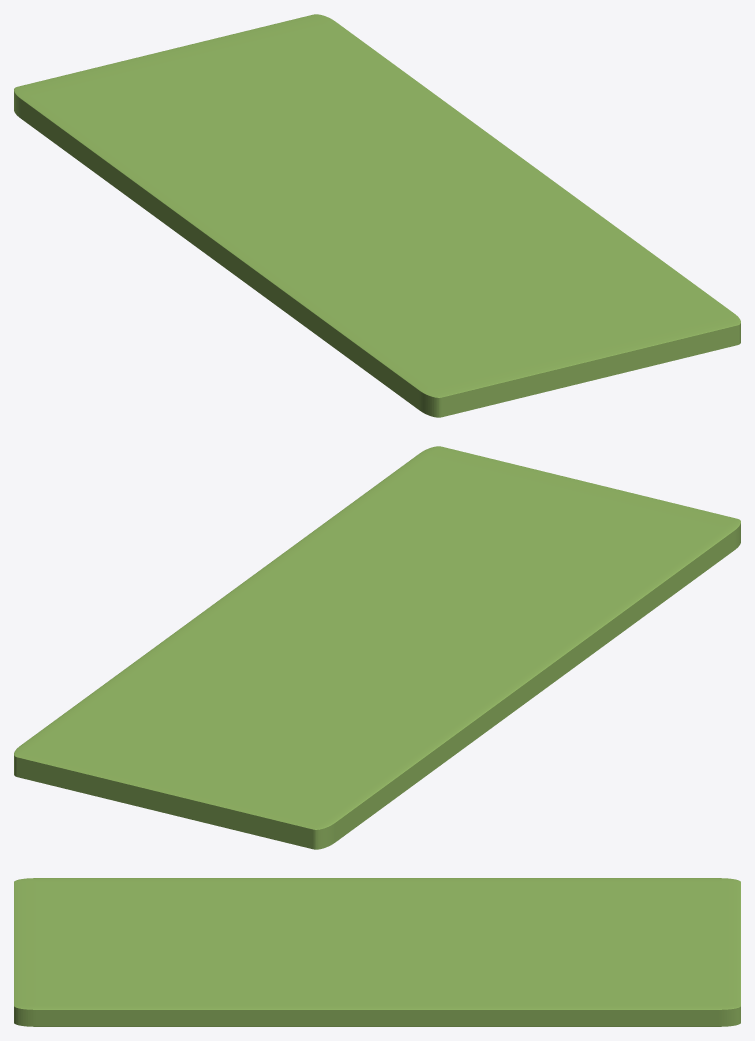
File: Courtyard.glb
3 renders of one model, top to bottom at view 1: azimuth 30°, elevation 25°; view 2: azimuth 150°, elevation 25°; view 3: azimuth 270°, elevation 25°, orthographic. The views are drawn at different scales.
Visible parts, largest first — view 1: Cube.142; view 2: Cube.142; view 3: Cube.142.
Boxes of the visible parts, x1,y1,x2,y2 form: Cube.142: (14, 14, 740, 417); Cube.142: (14, 446, 740, 849); Cube.142: (14, 878, 740, 1026).
Bounding box in the file's own units: 3.39 × 0.2164 × 7.91.
